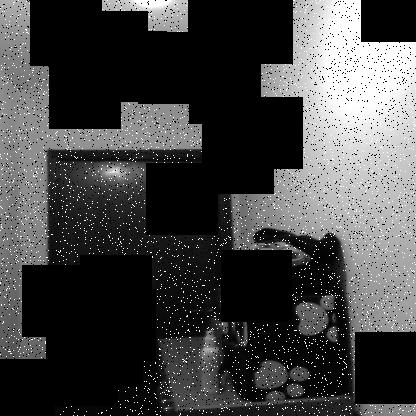Porte: (43, 146, 251, 415)
